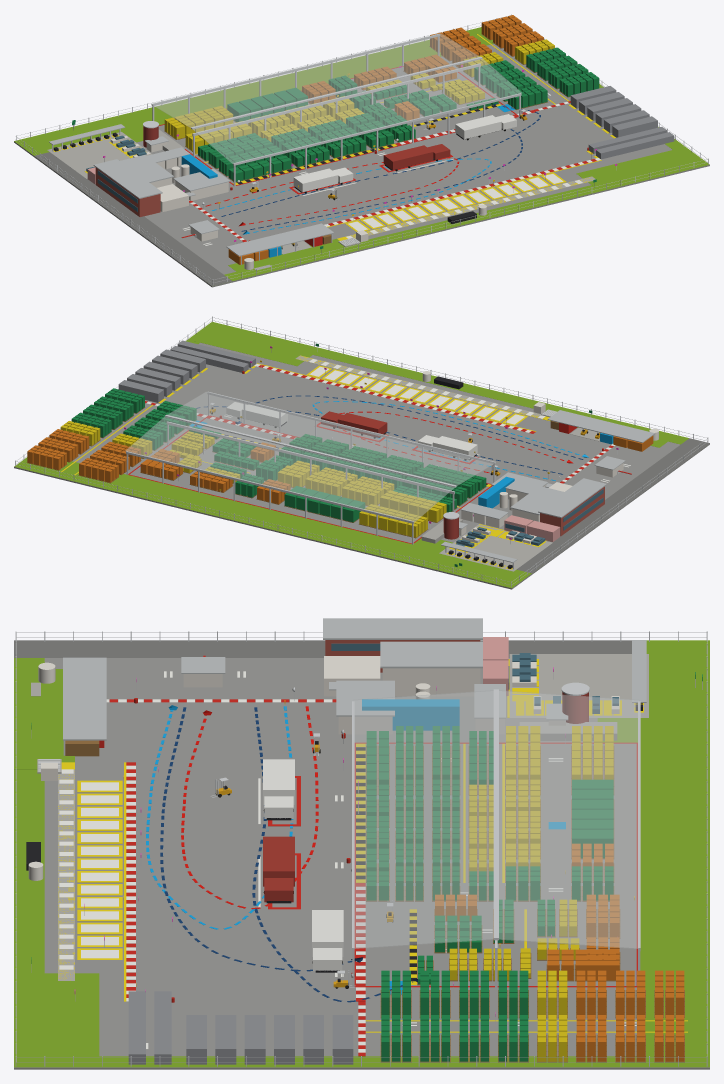
File: layout-cd-narino.glb
The picture shows the model from 3 angles, top to bottom: view 1: azimuth 30°, elevation 25°; view 2: azimuth 150°, elevation 25°; view 3: azimuth 270°, elevation 25°; orthographic projection. The views are drawn at different scales.
Visible parts, largest first — view 1: yard_slab, techo_sur, techo_norte, grass_norte, via_publica_occidente, grass_sureste, grass_sur, grass_noroeste, parqueadero_placa, grass_suroeste, techo_zona_montacargas, bloque_R1C1_B (+47 smaller); view 2: yard_slab, techo_norte, techo_sur, grass_norte, via_publica_occidente, grass_sureste, grass_noroeste, grass_sur, parqueadero_placa, bloque_R1C2_A, bloque_R1C1_B, techo_zona_montacargas (+49 smaller); view 3: yard_slab, techo_sur, techo_norte, grass_norte, grass_sureste, via_publica_occidente, grass_noroeste, grass_sur, parqueadero_placa, grass_oriente, grass_suroeste, techo_zona_montacargas (+83 smaller).
Part boxes in pixels (bbox=[...]): yard_slab: bbox=[14, 44, 709, 287]; techo_sur: bbox=[192, 58, 521, 163]; techo_norte: bbox=[151, 33, 479, 127]; grass_norte: bbox=[135, 27, 493, 125]; via_publica_occidente: bbox=[34, 152, 232, 285]; grass_sureste: bbox=[576, 147, 709, 191]; grass_sur: bbox=[224, 185, 599, 280]; grass_noroeste: bbox=[14, 111, 146, 155]; parqueadero_placa: bbox=[47, 132, 152, 178]; grass_suroeste: bbox=[228, 238, 362, 277]; techo_zona_montacargas: bbox=[226, 223, 333, 256]; bloque_R1C1_B: bbox=[164, 106, 233, 139]; yard_slab: bbox=[14, 342, 709, 589]; techo_norte: bbox=[125, 416, 454, 521]; techo_sur: bbox=[167, 391, 496, 485]; grass_norte: bbox=[14, 457, 411, 558]; via_publica_occidente: bbox=[517, 438, 709, 573]; grass_sureste: bbox=[188, 322, 321, 366]; grass_noroeste: bbox=[391, 538, 531, 587]; grass_sur: bbox=[313, 348, 688, 444]; parqueadero_placa: bbox=[439, 524, 552, 571]; bloque_R1C2_A: bbox=[284, 486, 365, 522]; bloque_R1C1_B: bbox=[359, 504, 428, 538]; techo_zona_montacargas: bbox=[547, 410, 654, 442]; yard_slab: bbox=[14, 658, 709, 1069]; techo_sur: bbox=[353, 690, 493, 948]; techo_norte: bbox=[499, 690, 639, 949]; grass_norte: bbox=[639, 743, 709, 1067]; grass_sureste: bbox=[14, 973, 99, 1067]; via_publica_occidente: bbox=[14, 640, 631, 657]; grass_noroeste: bbox=[597, 640, 709, 743]; grass_sur: bbox=[14, 658, 44, 973]; parqueadero_placa: bbox=[509, 654, 648, 717]; grass_oriente: bbox=[99, 1056, 709, 1067]; grass_suroeste: bbox=[14, 669, 74, 769]; techo_zona_montacargas: bbox=[63, 657, 106, 740].
Bounding box in the file's own units: 207 × 12.71 × 142.
